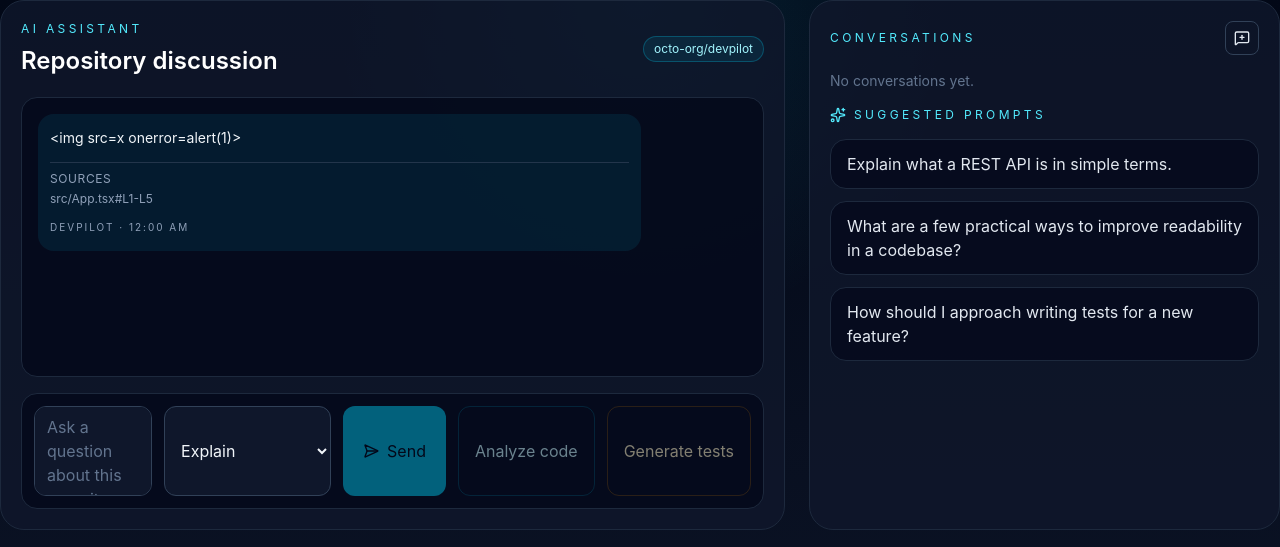
Test: client application flows › surfaces a provider-unavailable state without hiding the current conversation
Check: the text "src/App.tsx#L1-L5" is shown, box [50, 191, 153, 206]
Type "Explain this source" into the text box named "Chat message" at (93, 451), box [34, 406, 152, 496]
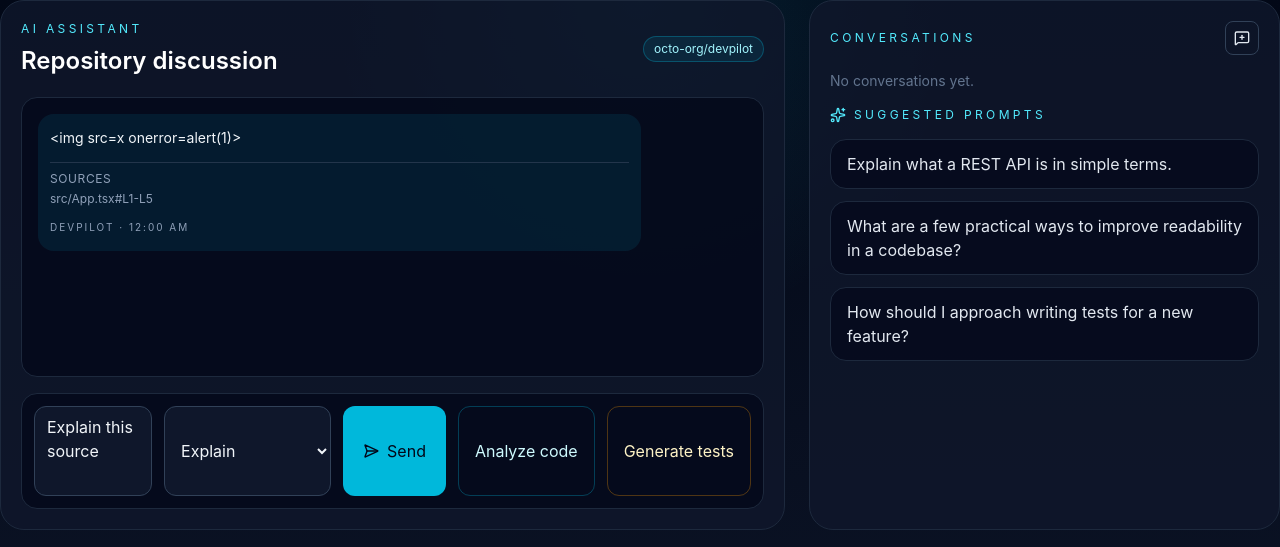
Click the button "Send" at (394, 451), box [343, 406, 446, 496]
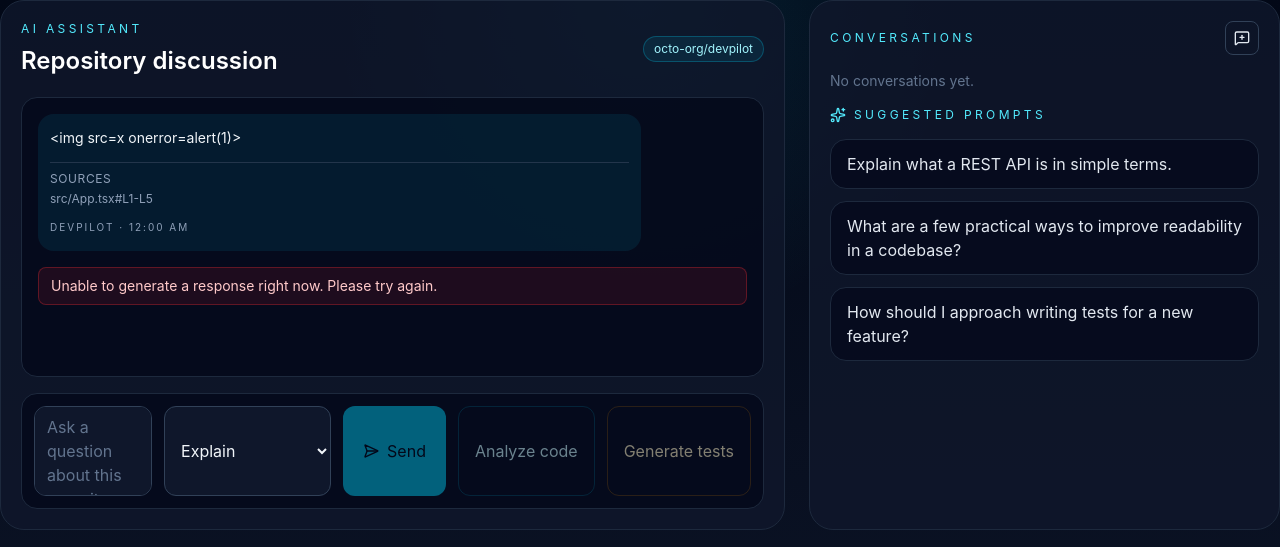
Check: the heading "Repository discussion" is shown, box [21, 45, 278, 77]
Check: the message shows "Unable to generate a response right now.", box [51, 277, 437, 294]
